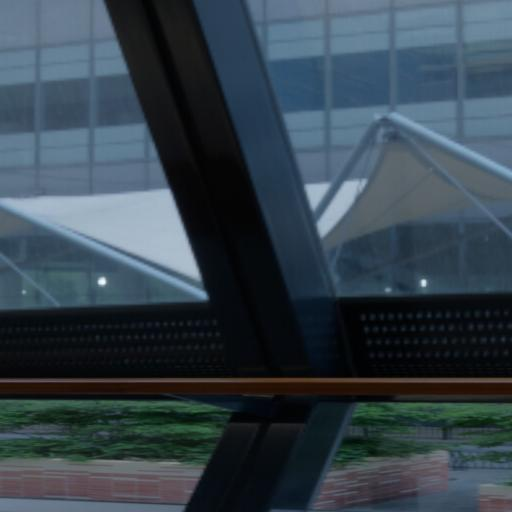nothing: (4, 2, 512, 512)
